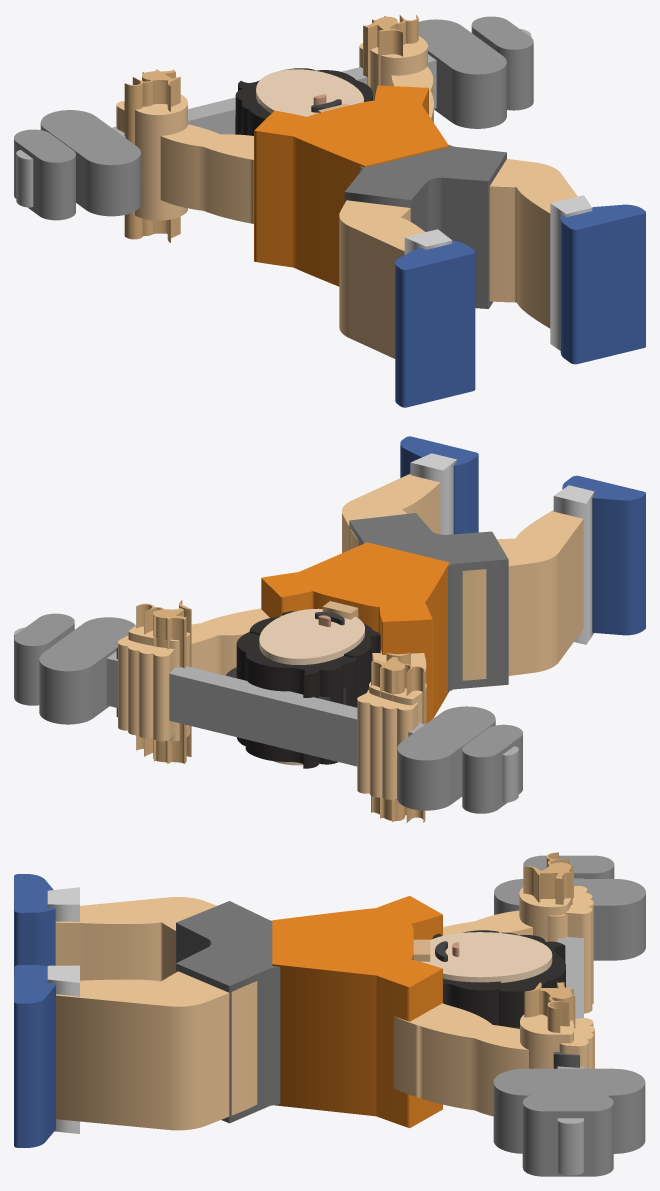
The model's file is emoji_u1f3cb_1f3fb.glb.
The picture shows the model from 3 angles, top to bottom: view 1: azimuth 30°, elevation 25°; view 2: azimuth 150°, elevation 25°; view 3: azimuth 270°, elevation 25°; orthographic projection. The views are drawn at different scales.
Parts seen in each view (by area): view 1: emoji_u1f3cb_1f3fb; view 2: emoji_u1f3cb_1f3fb; view 3: emoji_u1f3cb_1f3fb.
Part boxes in pixels (x1,y1,x2,y2): emoji_u1f3cb_1f3fb: [14, 15, 645, 407]; emoji_u1f3cb_1f3fb: [14, 436, 645, 822]; emoji_u1f3cb_1f3fb: [14, 852, 645, 1176].
Size of the model in its own units: 0.0334 by 0.0098 by 0.0333.
